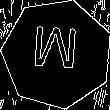M_S: (32, 28, 82, 81)
